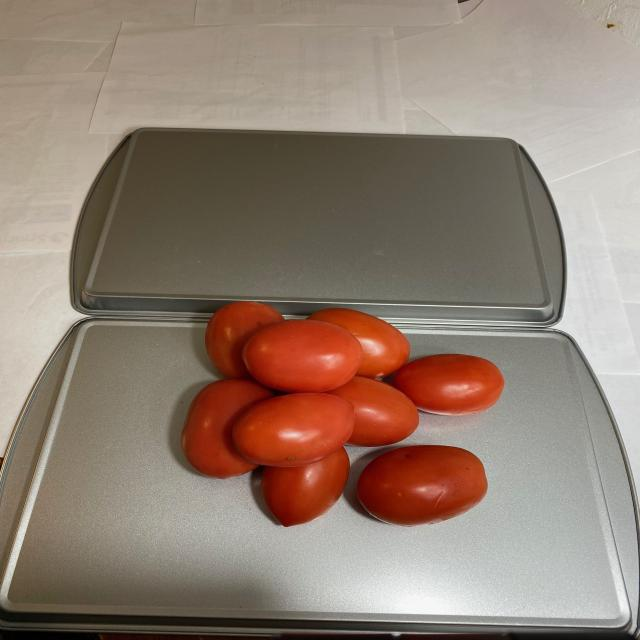tomato: (157, 302, 511, 530)
